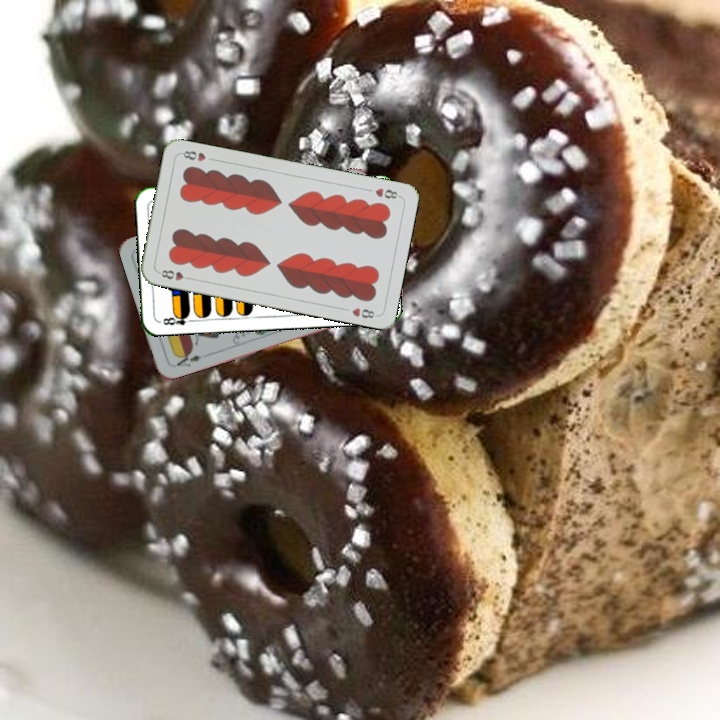E8: (159, 309, 197, 328)
EA: (172, 348, 204, 369)
H8: (154, 266, 195, 283), (371, 184, 403, 201)
